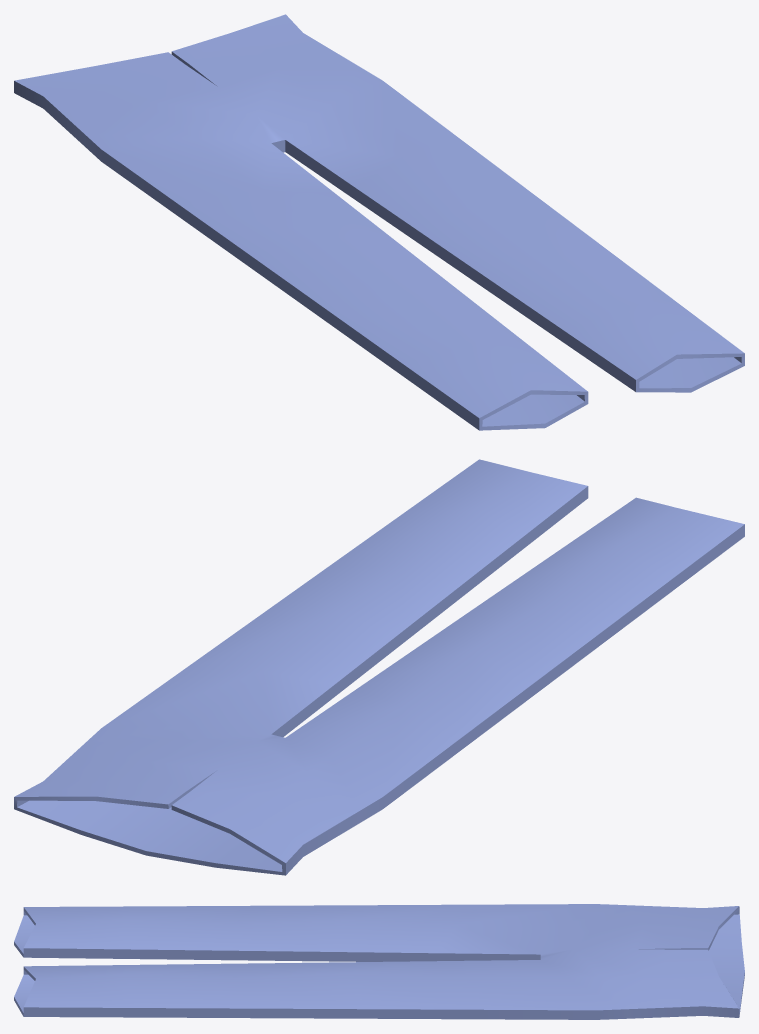
File: pants.fbx
3 renders of one model, top to bottom at view 1: azimuth 30°, elevation 25°; view 2: azimuth 150°, elevation 25°; view 3: azimuth 270°, elevation 25°, orthographic. The views are drawn at different scales.
Parts seen in each view (by area): view 1: pants; view 2: pants; view 3: pants.
Boxes of the visible parts, <box> form: pants: <box>14,14,744,430</box>; pants: <box>14,459,744,875</box>; pants: <box>14,904,744,1019</box>.
Bounding box in the file's own units: 65.23 × 8.56 × 189.
